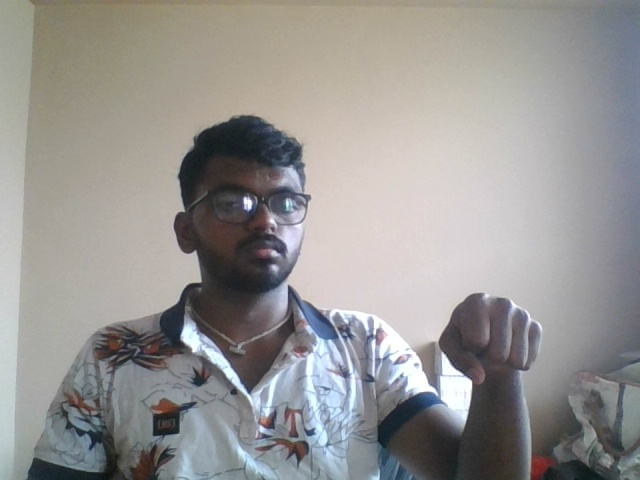Yes: (418, 263, 555, 435)
